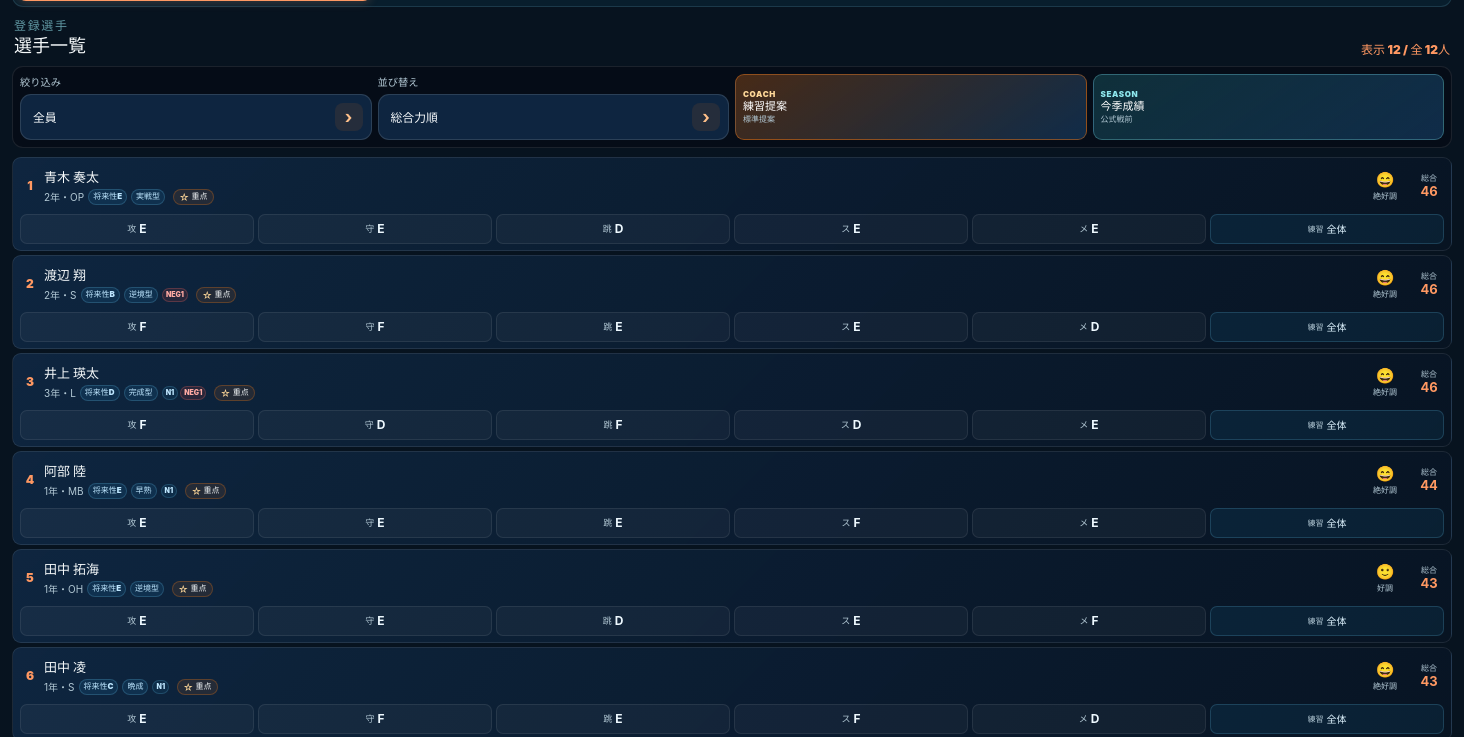
Test: PlayerHubScreen › shows only real player growth logs in the detail trend
Click the button "田中 拓海": (72, 568) [38,554,105,582]
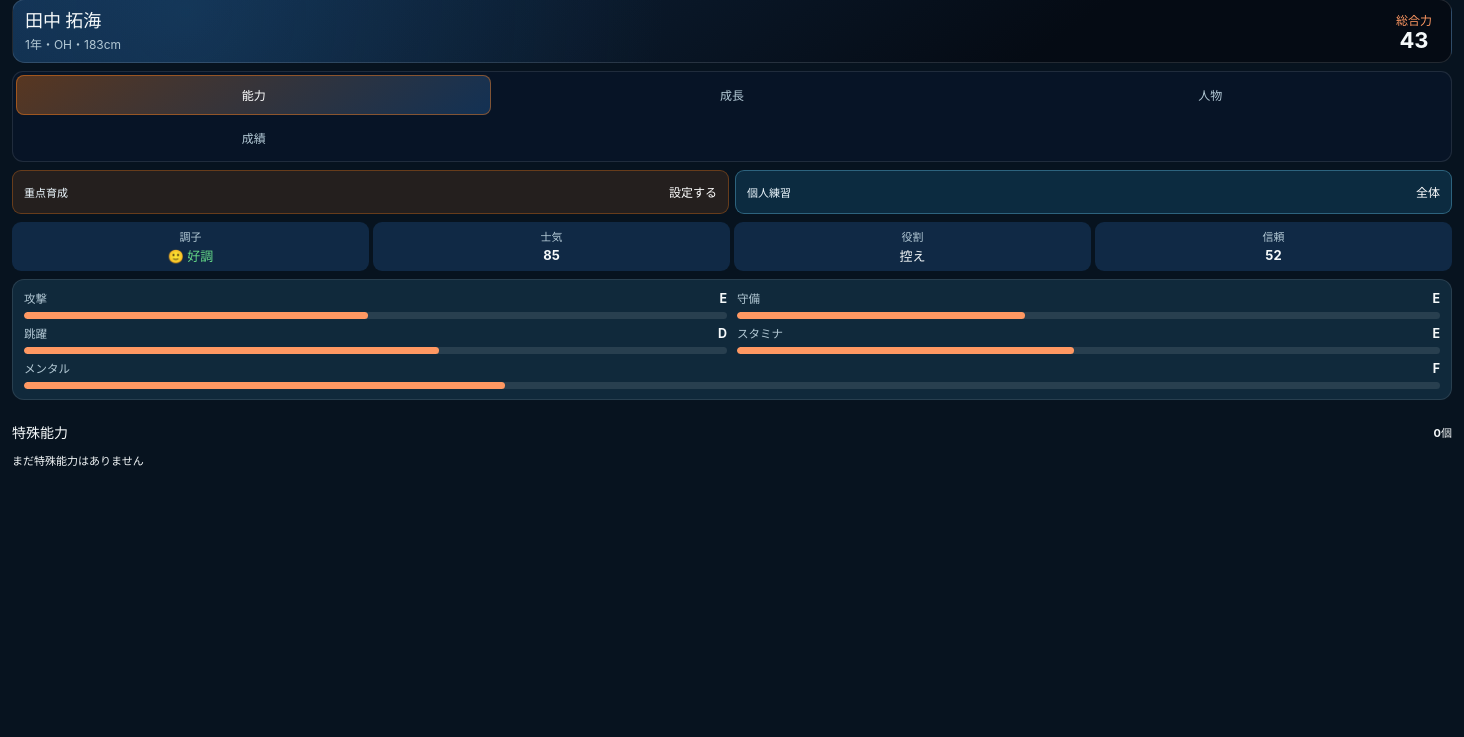
Click the button "成長": (732, 95) [494,75,970,115]
(page scrolled)
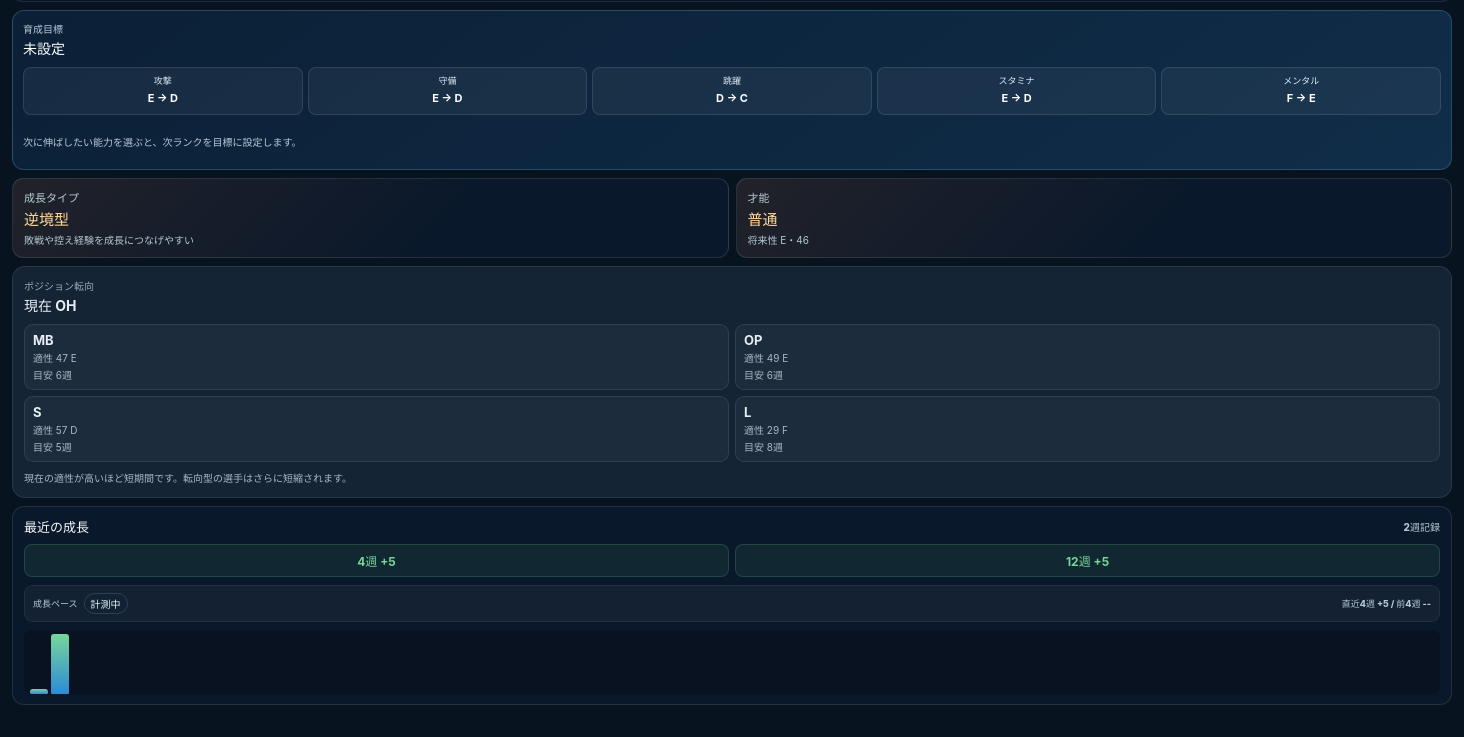
Expected: the text "4週 +5" is shown, [24,544,729,577]
Expected: the text "12週 +5" is shown, [735,544,1440,577]
Expected: the text "2週記録" is shown, [1404,519,1440,534]
